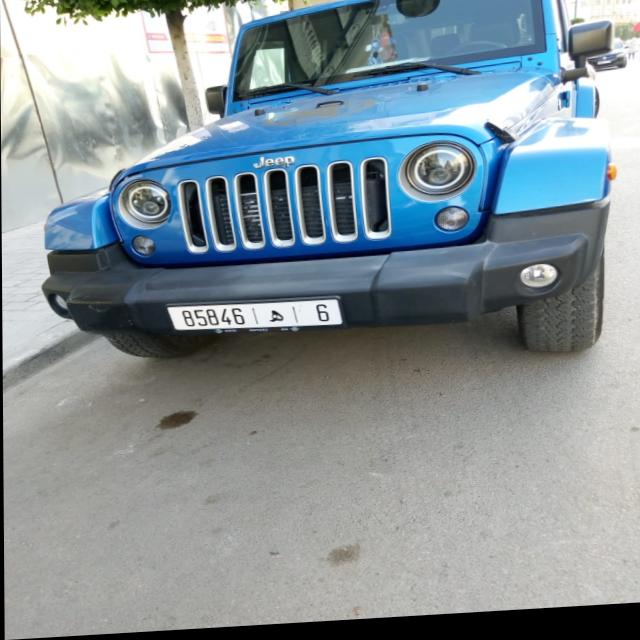License-Plate: (167, 303, 342, 333)
